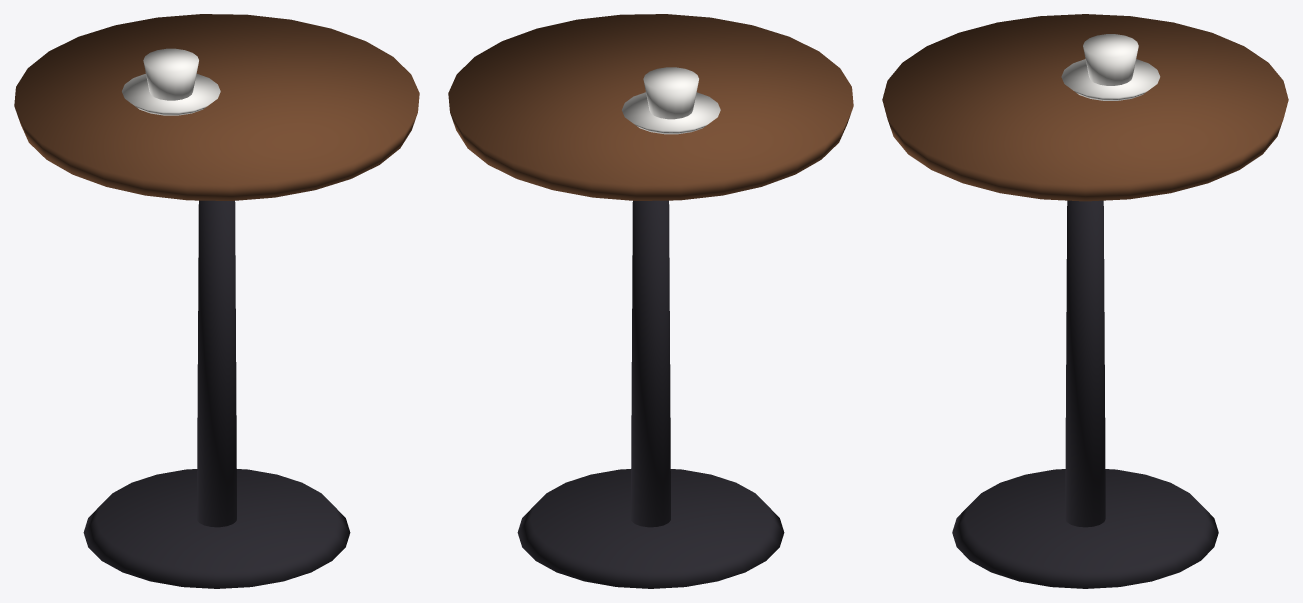
The model's file is cafe-bistro-table.glb.
3 renders of one model, left to right at view 1: azimuth 30°, elevation 25°; view 2: azimuth 150°, elevation 25°; view 3: azimuth 270°, elevation 25°, orthographic.
Visible parts, largest first — view 1: TS_StageProp_cafe-bistro-table; view 2: TS_StageProp_cafe-bistro-table; view 3: TS_StageProp_cafe-bistro-table.
Boxes of the visible parts, x1=… form: TS_StageProp_cafe-bistro-table: x1=14, y1=14, x2=419, y2=588; TS_StageProp_cafe-bistro-table: x1=448, y1=14, x2=853, y2=588; TS_StageProp_cafe-bistro-table: x1=882, y1=14, x2=1288, y2=588.
Size of the model in its own units: 0.64 by 0.818 by 0.64.
1 material, 1 textured.
